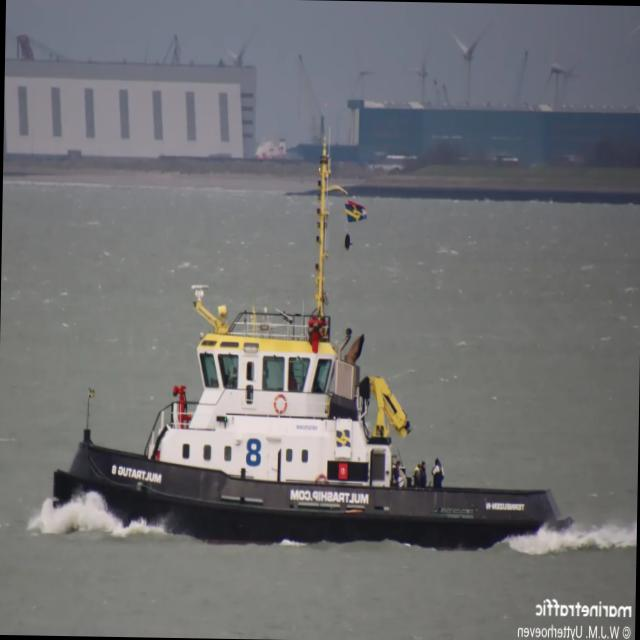Tug: (52, 142, 571, 547)
